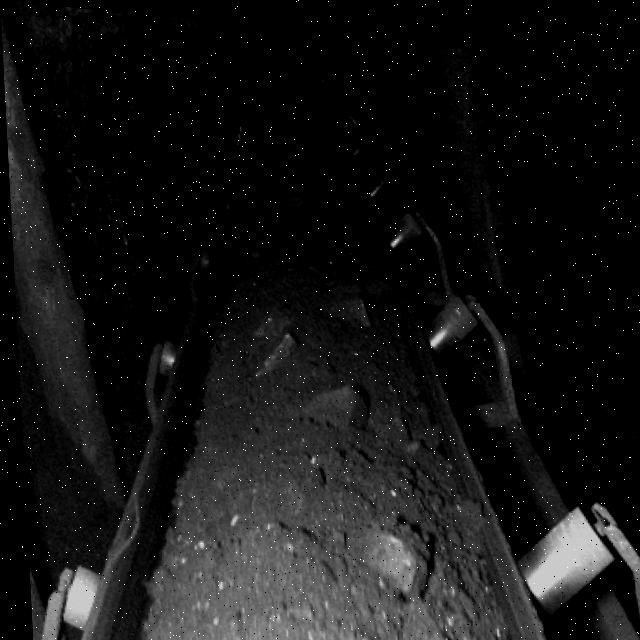large_sized_coal: (352, 505, 432, 595), (284, 372, 366, 431), (309, 263, 373, 329), (241, 316, 299, 377)
